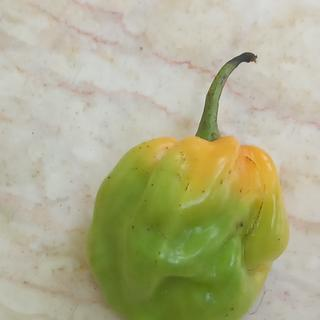Fly-bites: (234, 216, 251, 233), (197, 183, 211, 201), (215, 176, 231, 189), (184, 180, 194, 200), (102, 171, 115, 186), (126, 221, 140, 231), (149, 180, 159, 189), (144, 225, 151, 236)
